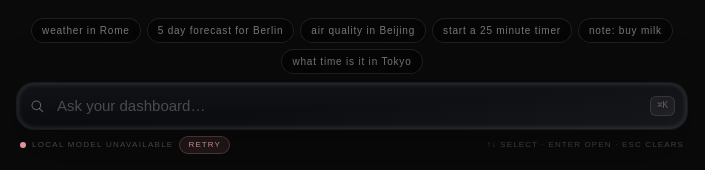
Test: the ask bar with the rules › offers a retry when the model cannot load
The width and height of the screenshot is (705, 170).
Expected: the text "Local model unavailable" is shown, [32, 139, 174, 151]
Click the button "Retry": coordinates (205, 145) [180, 136, 230, 154]
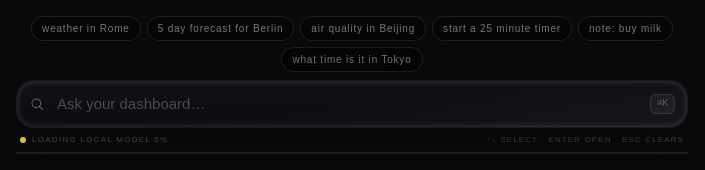
Result: the text "Loading local model 0%" is shown at [32, 134, 168, 146]
